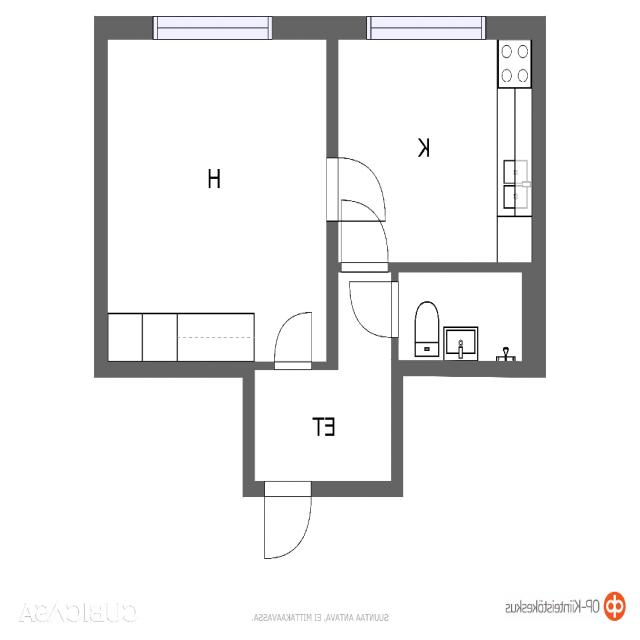door: (326, 158, 385, 220), (264, 480, 310, 558), (341, 200, 388, 272), (349, 282, 398, 338), (275, 313, 311, 369)
